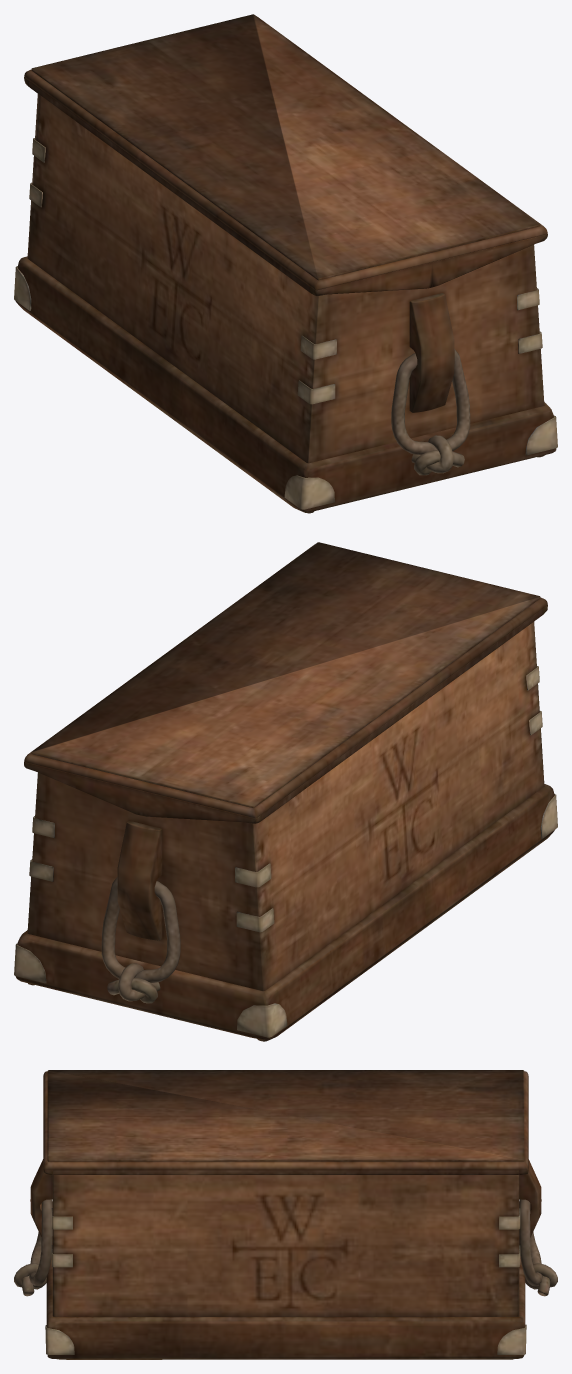
Rendered from wooden_crate_02.glb.
3 views of the same model, one above another, from view 1: azimuth 30°, elevation 25°; view 2: azimuth 150°, elevation 25°; view 3: azimuth 270°, elevation 25° (orthographic). The views are drawn at different scales.
Parts seen in each view (by area): view 1: wooden_crate_02_crate, wooden_crate_02_lid; view 2: wooden_crate_02_crate, wooden_crate_02_lid; view 3: wooden_crate_02_crate, wooden_crate_02_lid.
Part boxes in pixels (x1=…): wooden_crate_02_crate: x1=14, y1=94, x2=557, y2=513; wooden_crate_02_lid: x1=24, y1=14, x2=547, y2=296; wooden_crate_02_crate: x1=14, y1=621, x2=557, y2=1041; wooden_crate_02_lid: x1=24, y1=542, x2=547, y2=823; wooden_crate_02_crate: x1=14, y1=1159, x2=557, y2=1359; wooden_crate_02_lid: x1=43, y1=1070, x2=528, y2=1174.
Size of the model in its own units: 0.5291 by 0.464 by 1.17.
1 material, 1 textured.
